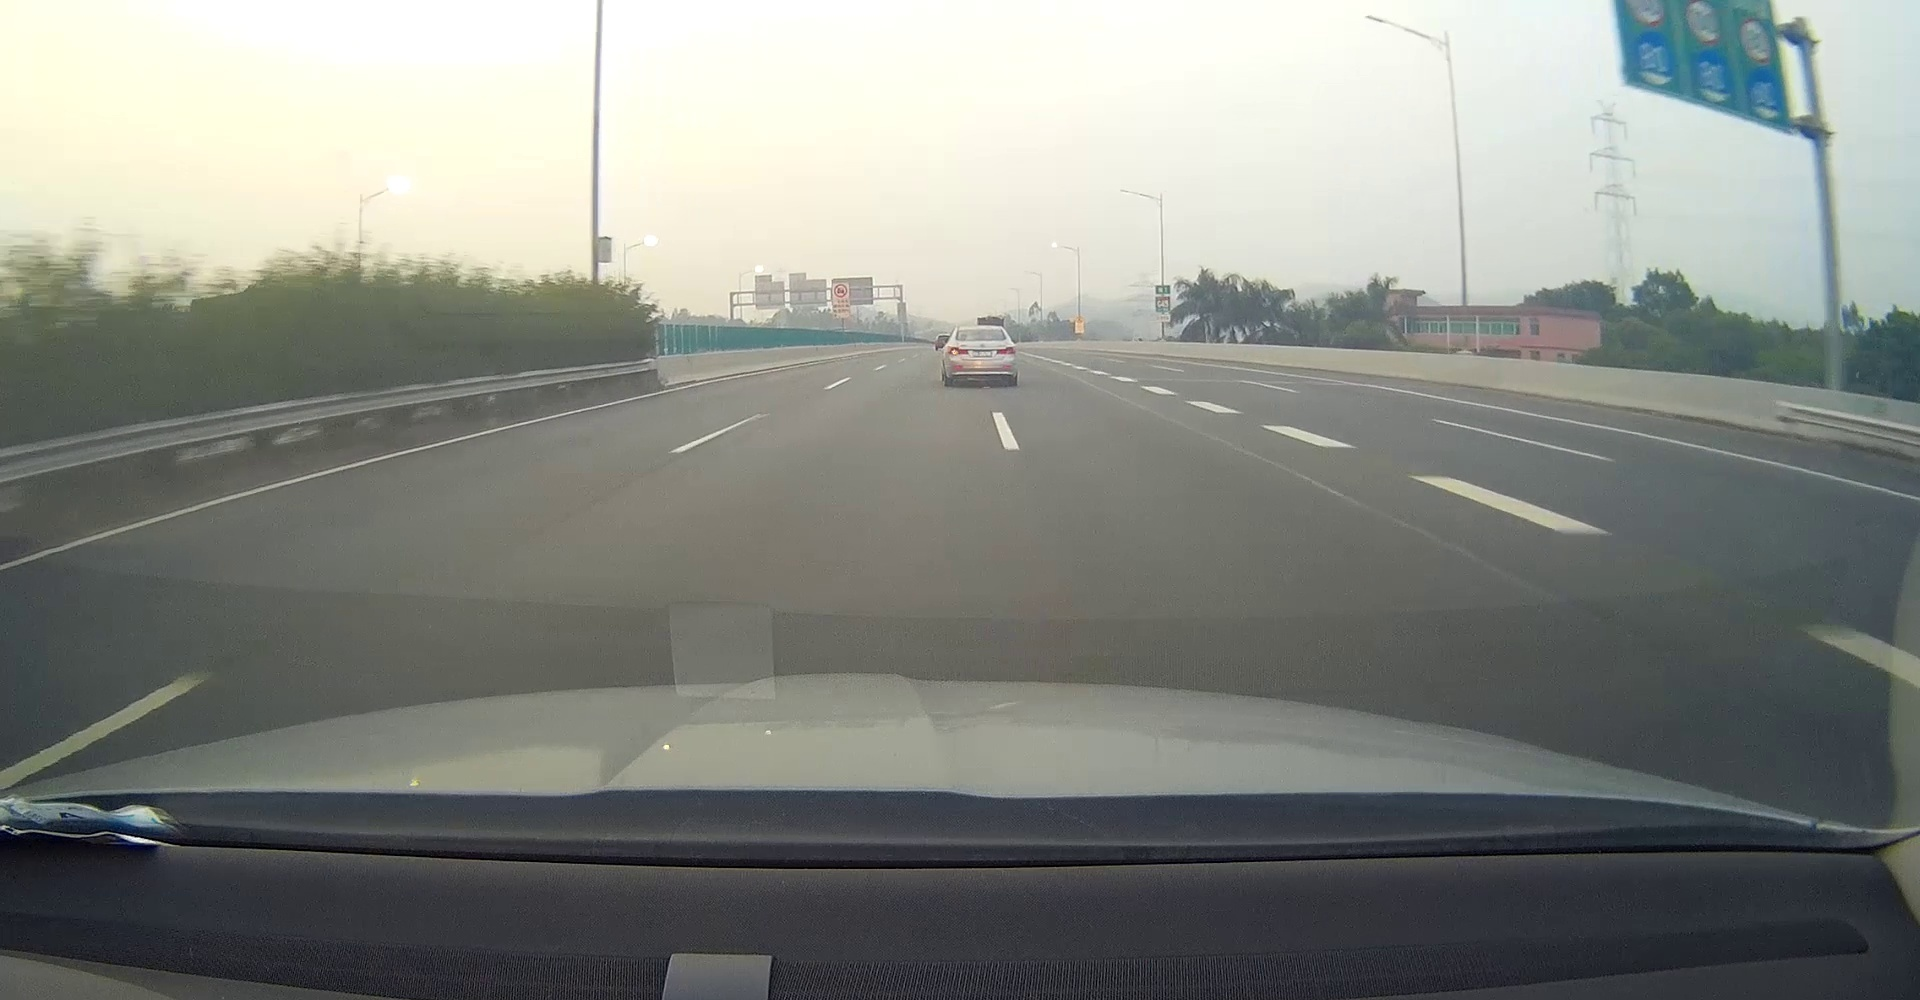L_light: (949, 346, 968, 354)
R_light: (996, 346, 1016, 355)
T_light: (977, 329, 987, 332)
day-no: (945, 326, 1018, 387)
